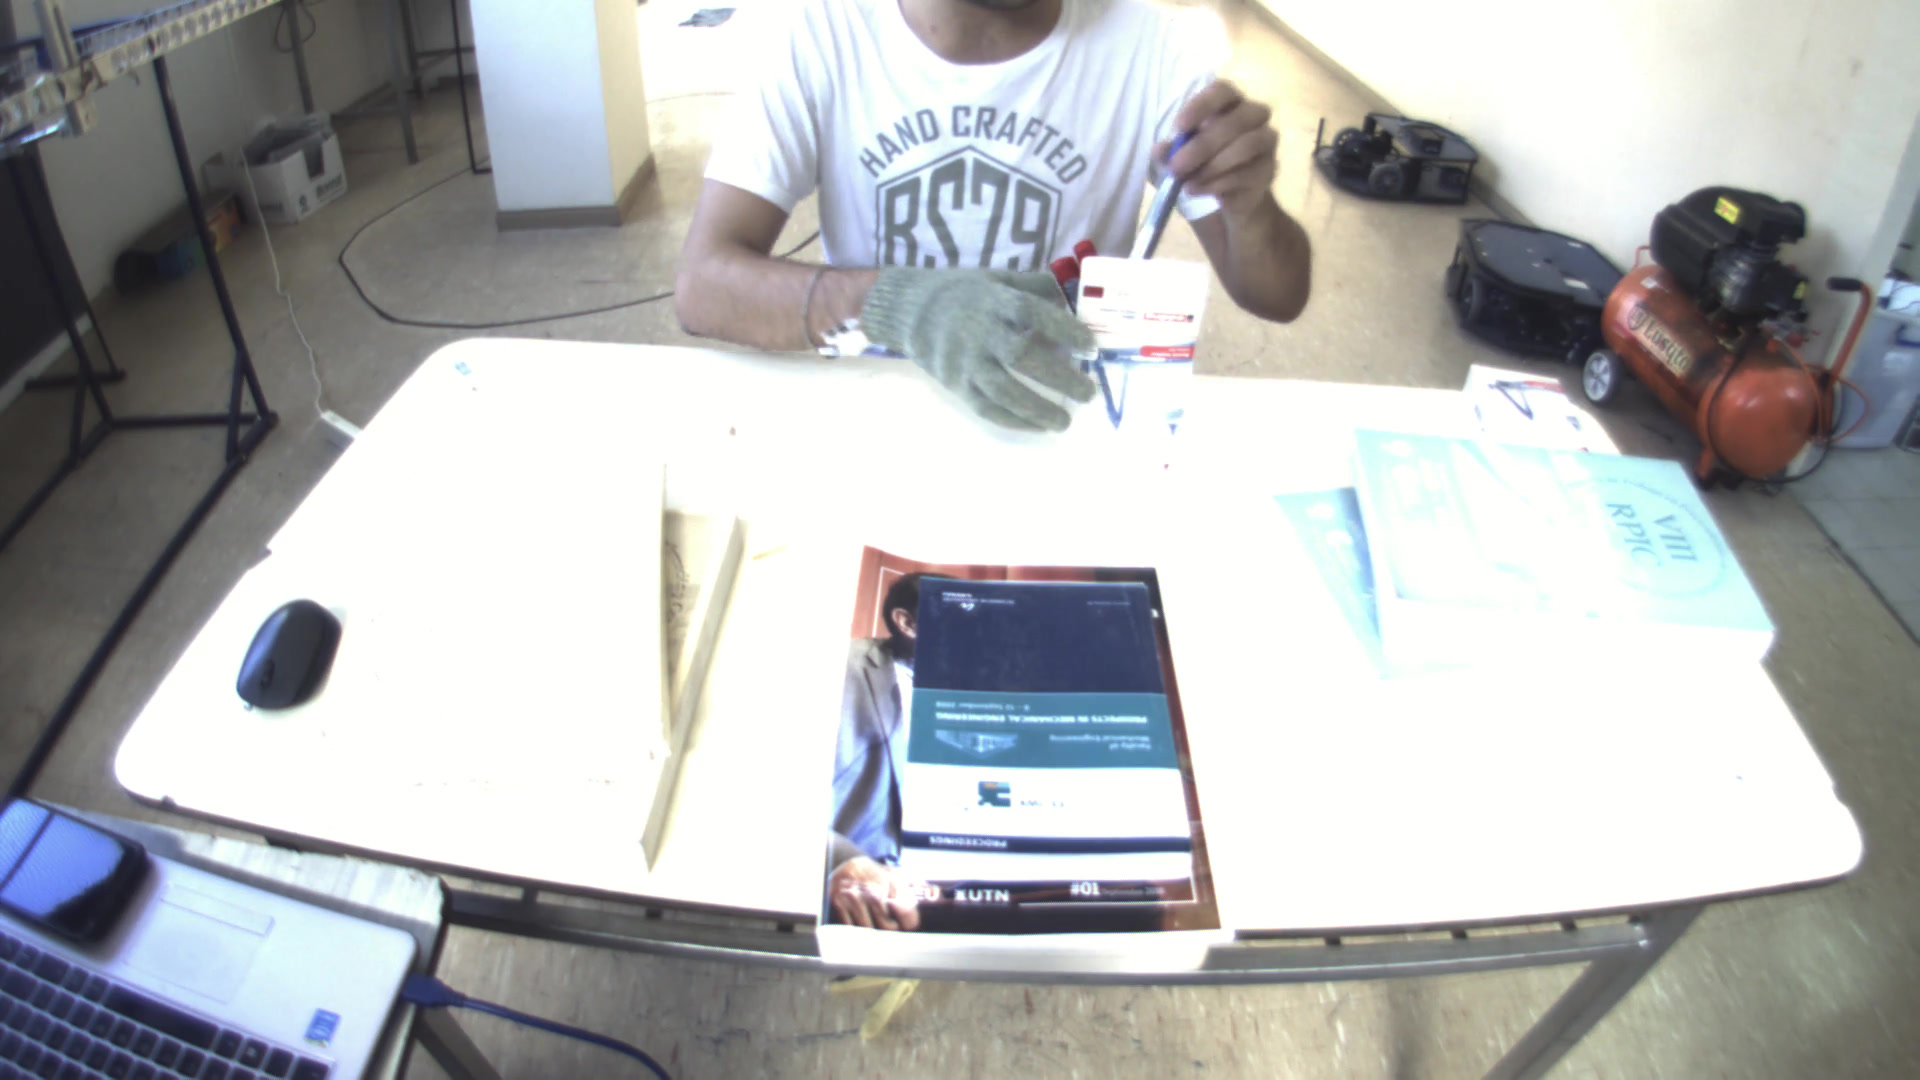hand: (849, 251, 1116, 438), (1153, 69, 1294, 211)
